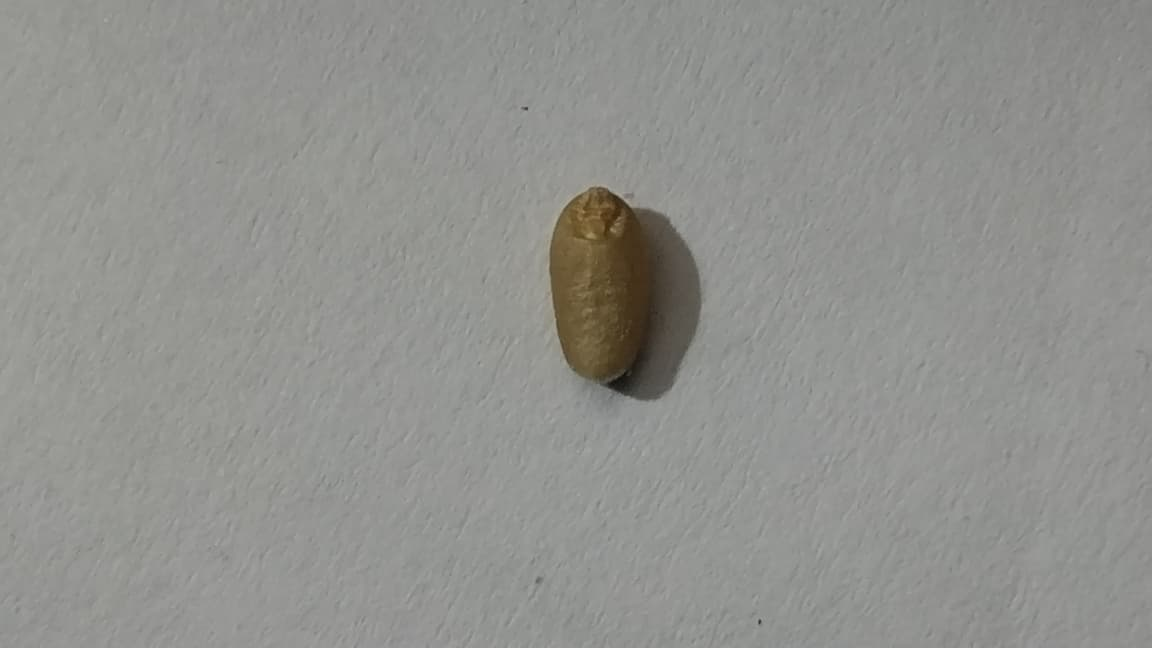healthy: (551, 186, 650, 384)
